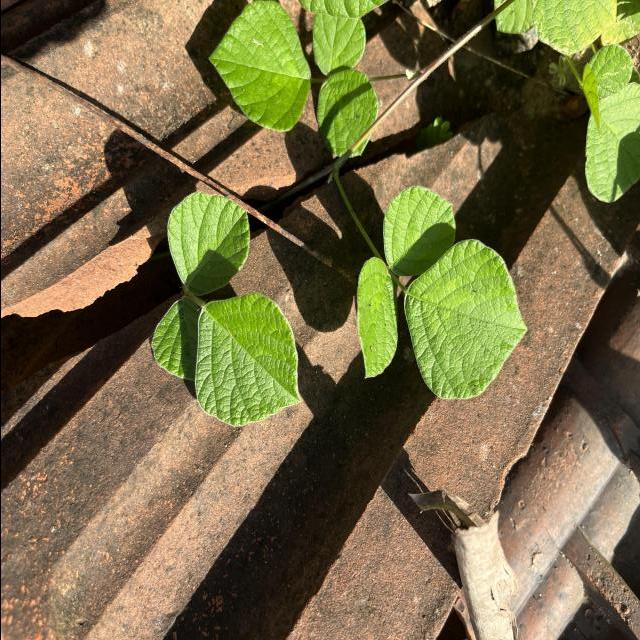Pseudarthria viscida: (353, 182, 530, 402), (148, 190, 302, 428), (205, 0, 378, 163)
